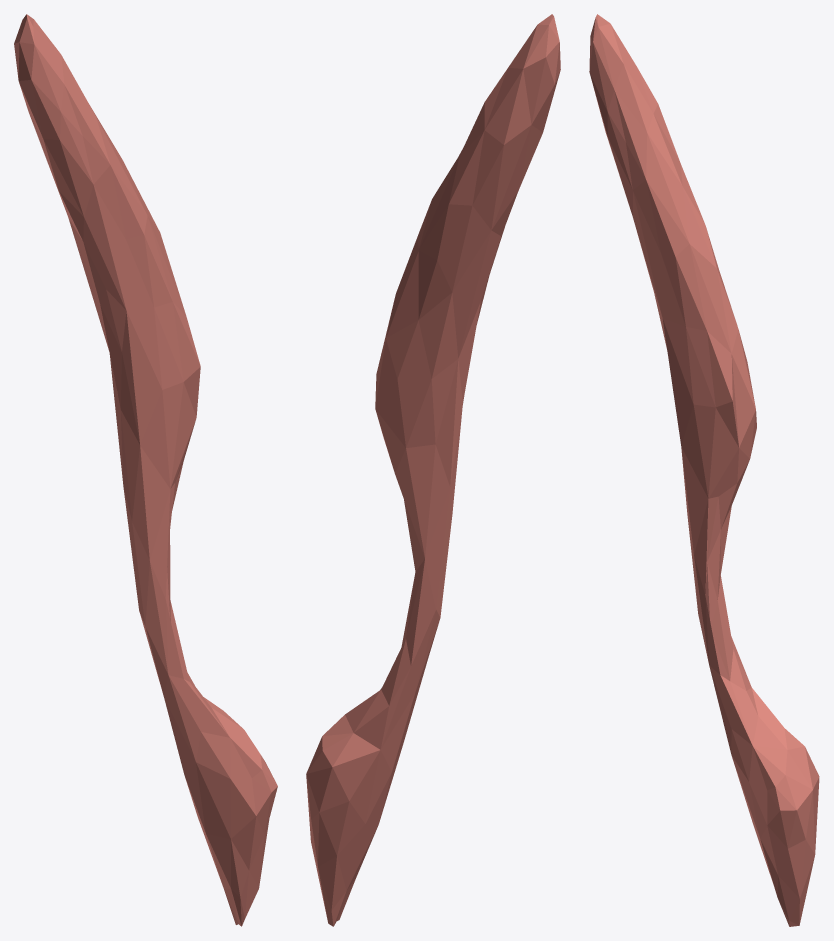
3 views of the same model, side by side, from view 1: azimuth 30°, elevation 25°; view 2: azimuth 150°, elevation 25°; view 3: azimuth 330°, elevation 25° (orthographic). The views are drawn at different scales.
Parts seen in each view (by area): view 1: 452.obj; view 2: 452.obj; view 3: 452.obj.
Boxes of the visible parts, box(x1,y1,x2,y2) form: 452.obj: box(14, 14, 277, 926); 452.obj: box(306, 14, 560, 926); 452.obj: box(589, 14, 819, 926).
Bounding box in the file's own units: 481 × 1799 × 150.
